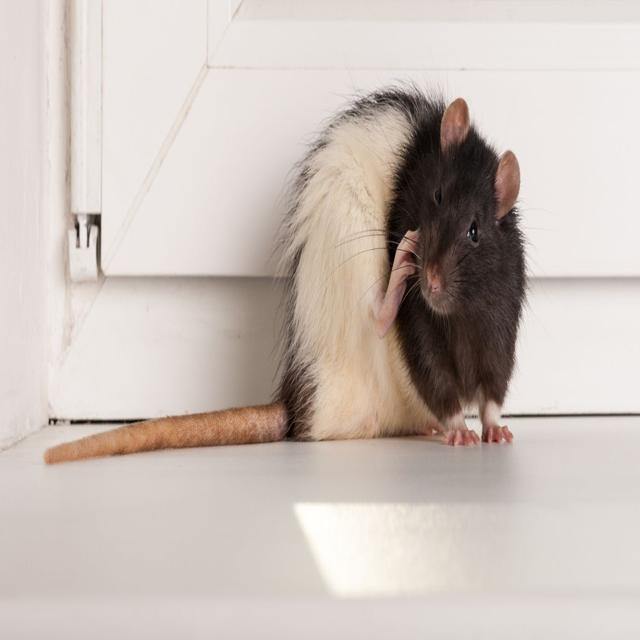rat: (256, 88, 529, 464)
